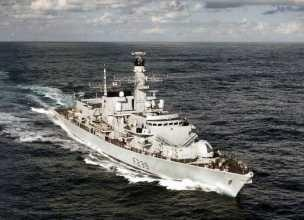warship: (51, 49, 259, 202)
